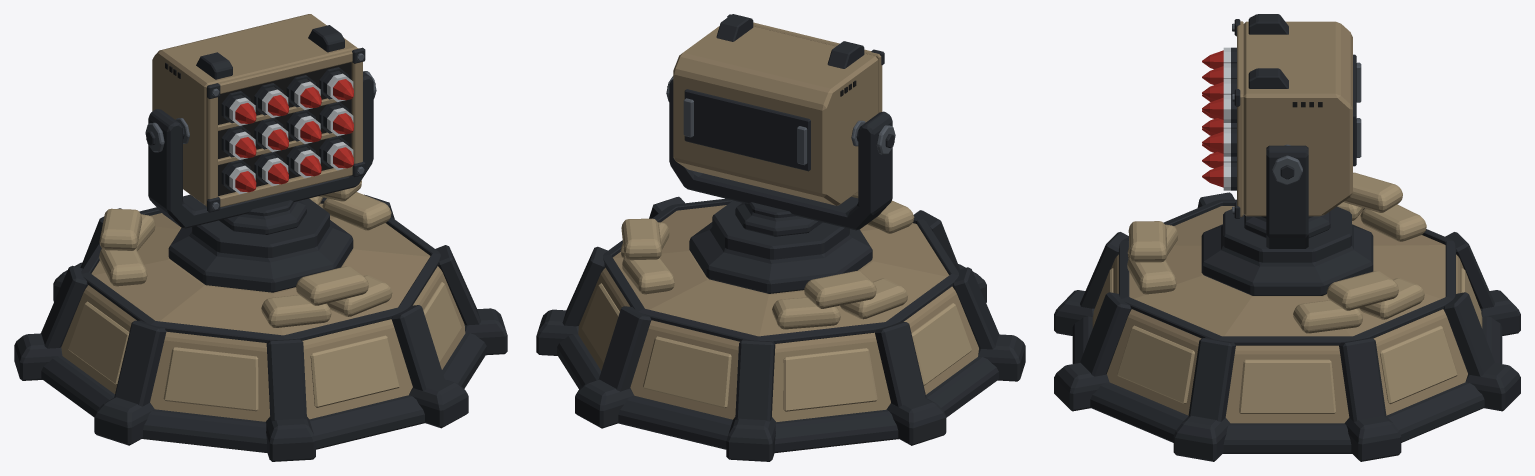
File: rk40-brasa-n4.glb
The picture shows the model from 3 angles, left to right: view 1: azimuth 30°, elevation 25°; view 2: azimuth 150°, elevation 25°; view 3: azimuth 270°, elevation 25°; orthographic projection.
Parts seen in each view (by area): view 1: casco, gun_pitch, turret_yaw, rocket_01, rocket_09, rocket_11, rocket_05, rocket_07, rocket_03, rocket_06, rocket_04, rocket_12 (+3 smaller); view 2: casco, gun_pitch, turret_yaw; view 3: casco, gun_pitch, turret_yaw, rocket_12, rocket_08, rocket_04, rocket_01, rocket_02, rocket_03.
Part boxes in pixels (x1,y1,x2,y2): casco: (14,180,507,461); gun_pitch: (152,14,365,212); turret_yaw: (145,71,376,234); rocket_01: (225,94,256,125); rocket_09: (225,163,256,194); rocket_11: (290,147,321,178); rocket_05: (225,128,256,159); rocket_07: (290,113,321,143); rocket_03: (290,78,321,109); rocket_06: (258,120,288,152); rocket_04: (323,71,353,101); rocket_12: (323,139,353,170); casco: (536,191,1025,461); gun_pitch: (673,14,884,205); turret_yaw: (666,76,895,236); casco: (1054,172,1520,461); gun_pitch: (1232,14,1361,218); turret_yaw: (1244,145,1330,248); rocket_12: (1202,162,1236,190); rocket_08: (1202,128,1236,156); rocket_04: (1202,95,1236,122); rocket_01: (1202,47,1236,69); rocket_02: (1202,63,1236,84); rocket_03: (1202,79,1236,100).
Bounding box in the file's own units: 1 × 0.755 × 1.
